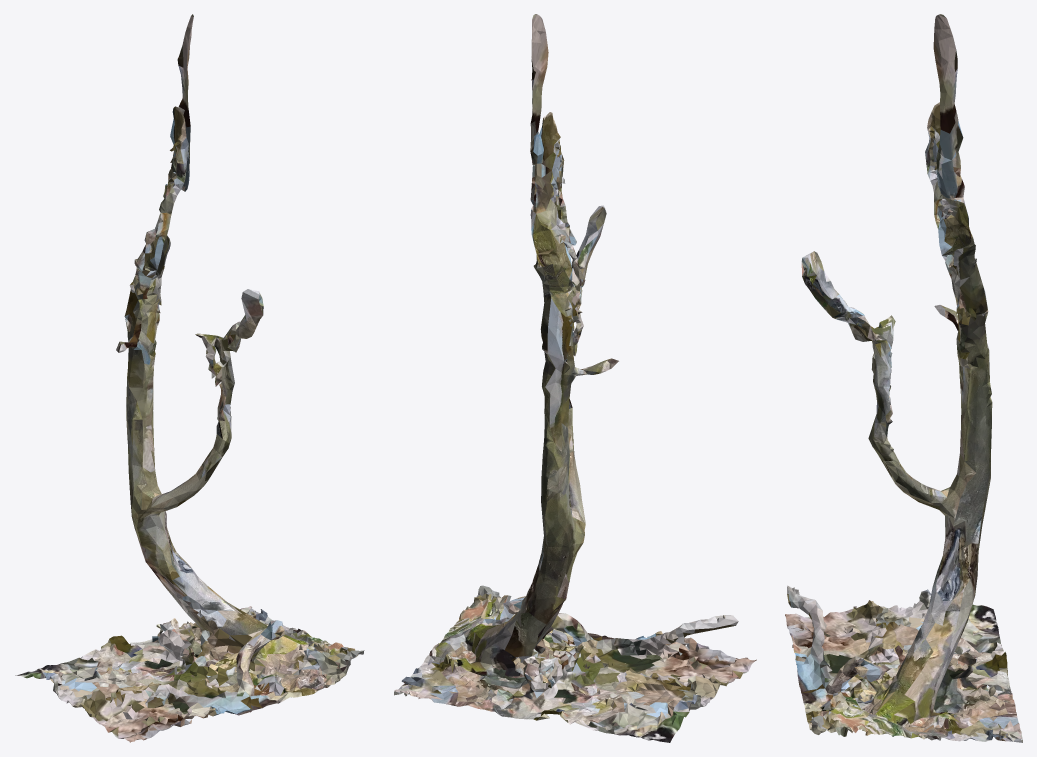
File: bluetree.glb
The picture shows the model from 3 angles, left to right: view 1: azimuth 30°, elevation 25°; view 2: azimuth 150°, elevation 25°; view 3: azimuth 270°, elevation 25°; orthographic projection. The views are drawn at different scales.
Visible parts, largest first — view 1: textured; view 2: textured; view 3: textured.
Part boxes in pixels (left/top/right/bottom): textured: left=15, top=14, right=364, bottom=742; textured: left=394, top=14, right=756, bottom=742; textured: left=785, top=14, right=1022, bottom=742.
Size of the model in its own units: 1.72 by 3.99 by 1.26.
1 material, 1 textured.
